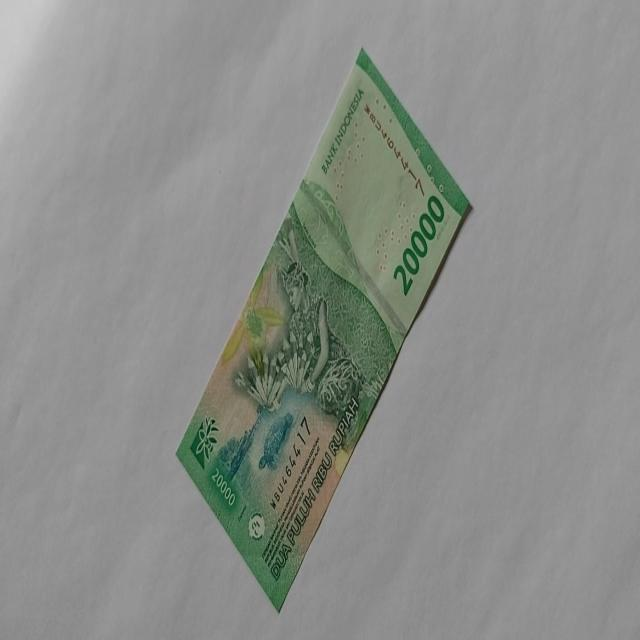dua puluh ribu rupiah: (174, 45, 473, 612)
